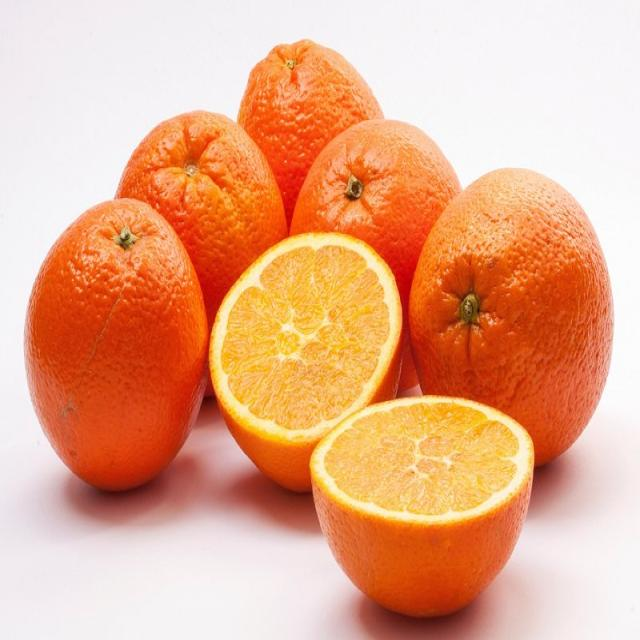orange: (408, 167, 622, 449), (19, 197, 208, 476), (312, 403, 550, 604), (207, 229, 404, 438)
